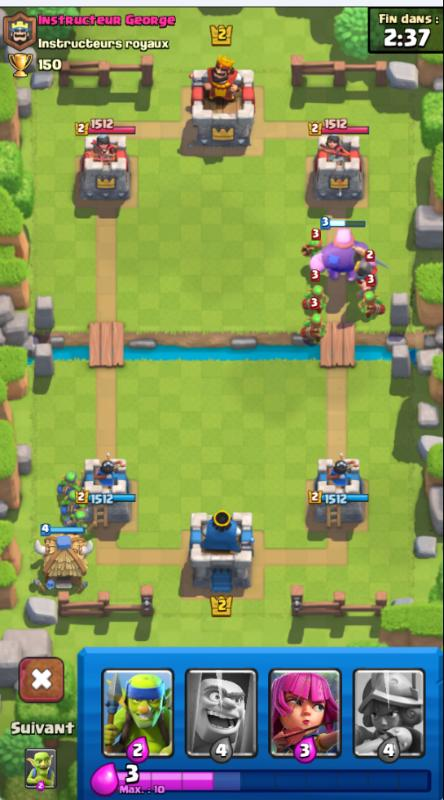chevalier: (351, 244, 385, 296)
geant: (317, 214, 372, 283)
gobelin_lances: (301, 313, 326, 349), (301, 230, 326, 266), (303, 281, 328, 315), (357, 292, 382, 325), (60, 490, 84, 518), (64, 511, 89, 537), (57, 467, 81, 492)
